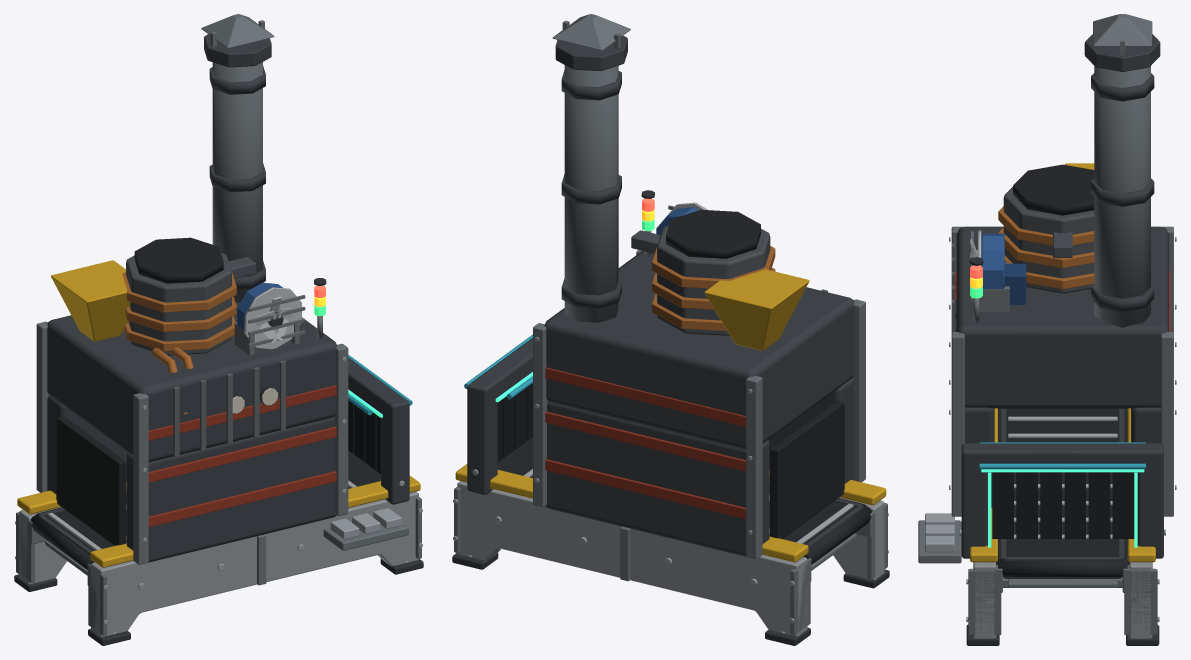
File: fw_smelter.glb
The picture shows the model from 3 angles, left to right: view 1: azimuth 30°, elevation 25°; view 2: azimuth 150°, elevation 25°; view 3: azimuth 270°, elevation 25°; orthographic projection. The views are drawn at different scales.
Parts seen in each view (by area): view 1: block.046, block.044, prism, cyl.009, block.057, cyl.003, cyl.007, cyl.008, block.053, block.035, block.055, block.049 (+24 smaller); view 2: block.046, prism.001, block.045, cyl.009, block.057, cyl.007, cyl.003, cyl.008, block.054, block.036, block.056, block.048 (+22 smaller); view 3: block.046, cyl.009, belt, block.037, cyl.003, cyl.008, block.055, block.035, block.036, block.056, cyl.002, block.005 (+34 smaller).
Boxes of the visible parts, x1,y1,x2,y2 form: block.046: [47, 302, 337, 462]; block.044: [126, 417, 336, 562]; prism: [91, 491, 418, 636]; cyl.009: [212, 62, 262, 302]; block.057: [56, 416, 126, 545]; cyl.003: [126, 252, 231, 355]; cyl.007: [51, 260, 130, 341]; cyl.008: [134, 237, 223, 283]; block.053: [133, 393, 148, 564]; block.035: [381, 410, 409, 504]; block.055: [334, 343, 348, 515]; block.049: [148, 426, 336, 482]; block.046: [544, 251, 854, 449]; prism.001: [457, 481, 807, 636]; block.045: [545, 401, 769, 556]; cyl.009: [564, 65, 618, 322]; block.057: [770, 400, 844, 538]; cyl.007: [704, 269, 809, 350]; cyl.003: [657, 225, 770, 335]; cyl.008: [666, 209, 760, 258]; block.054: [746, 376, 762, 559]; block.036: [467, 390, 497, 494]; block.056: [533, 323, 547, 507]; block.048: [545, 459, 745, 518]; block.046: [956, 226, 1168, 408]; cyl.009: [1094, 66, 1150, 327]; belt: [996, 408, 1129, 564]; block.037: [961, 443, 1163, 469]; cyl.003: [1003, 187, 1094, 293]; cyl.008: [1013, 164, 1094, 215]; block.055: [951, 332, 964, 516]; block.035: [961, 460, 987, 558]; block.036: [1137, 460, 1163, 558]; block.056: [1161, 332, 1173, 516]; cyl.002: [998, 559, 1127, 577]; block.005: [968, 569, 1001, 634].
Bounding box in the file's own units: 2.42 × 3.79 × 1.56.
